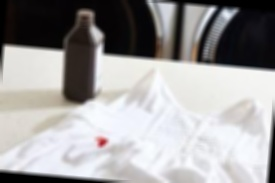blood: (93, 134, 110, 149)
